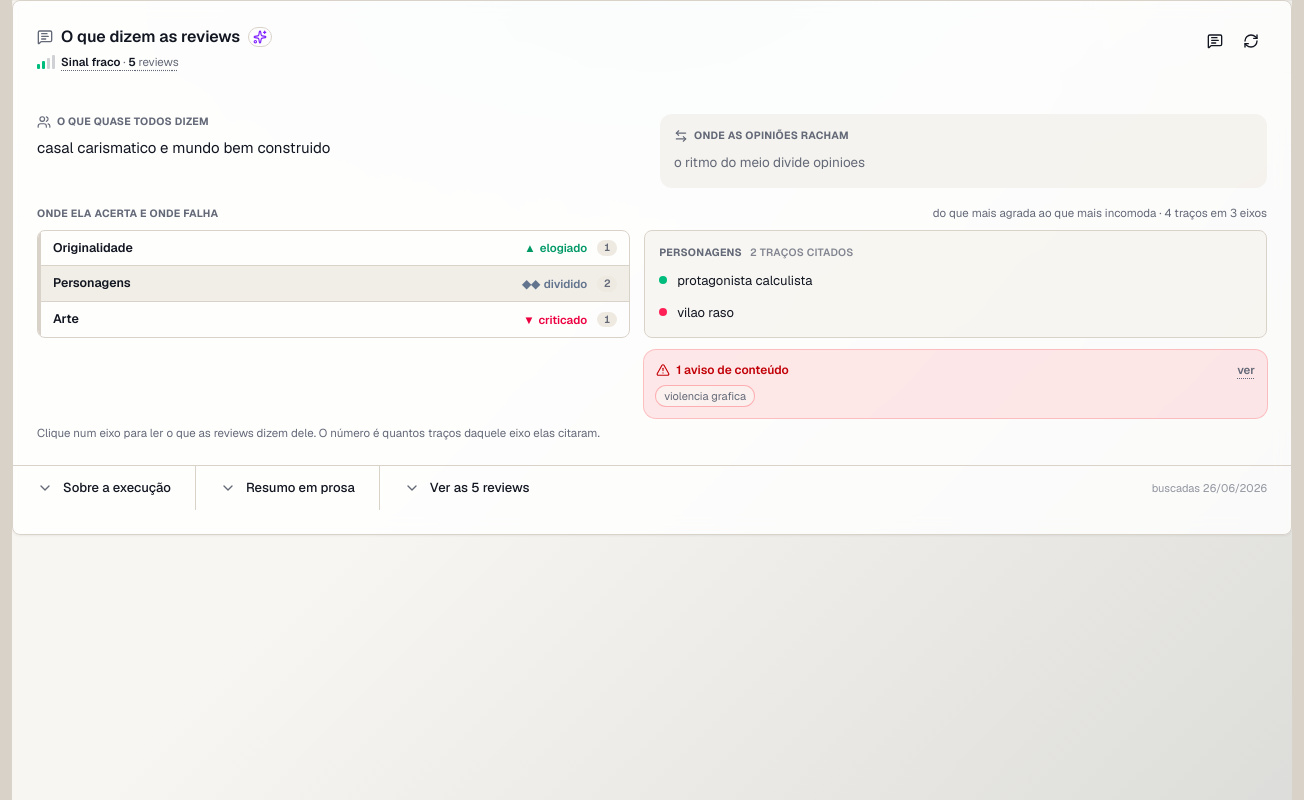
WorkReviewsCard — digest na aba Notas & Avaliações › abre o painel no eixo mais citado e troca ao clicar em outro
Expected: the text "protagonista calculista" is shown, [659,272,812,289]
Expected: the text "vilao raso" is shown, [659,304,734,321]
Step 1. Click the tab "Originalidade ▲ elogiado 1" → [93, 247], box [38,231,629,266]
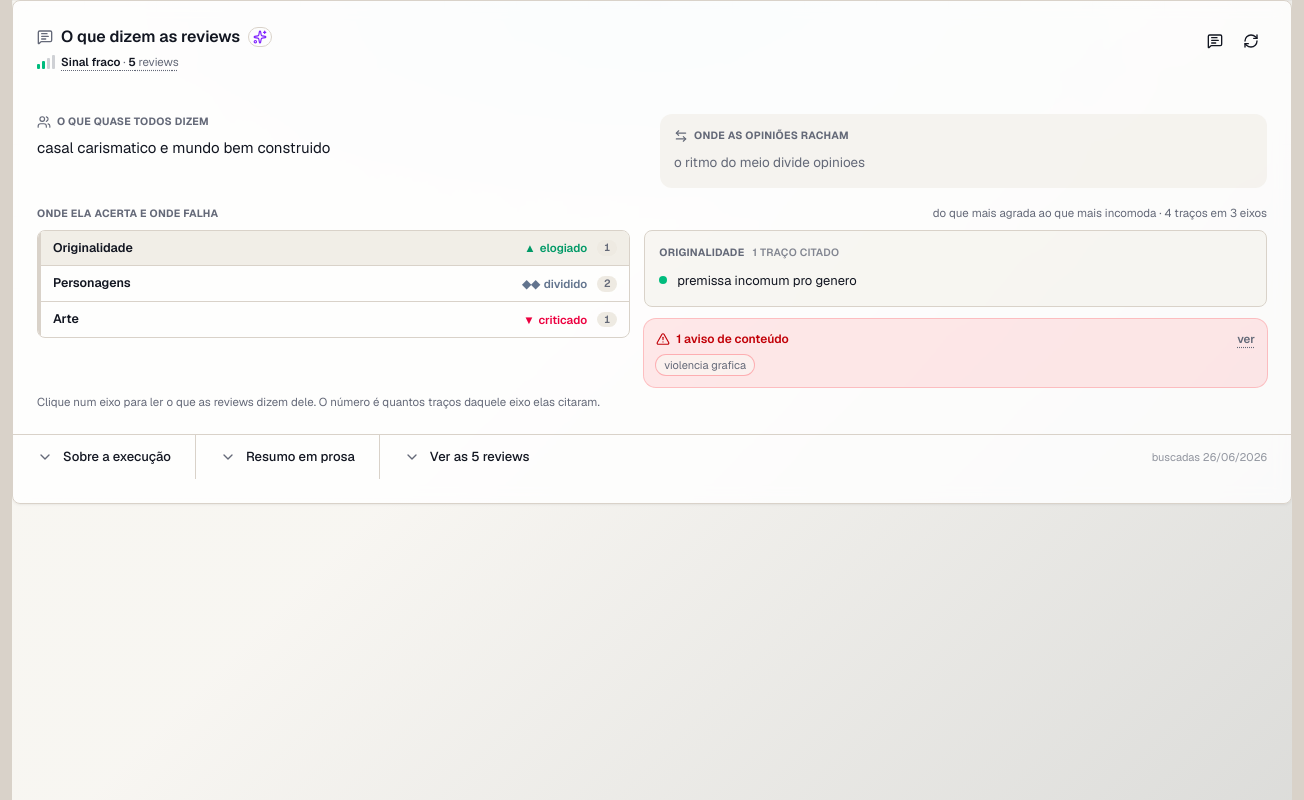
Expected: the text "premissa incomum pro genero" is shown, [659,272,857,289]
Expected: the text "vilao raso" is gone
